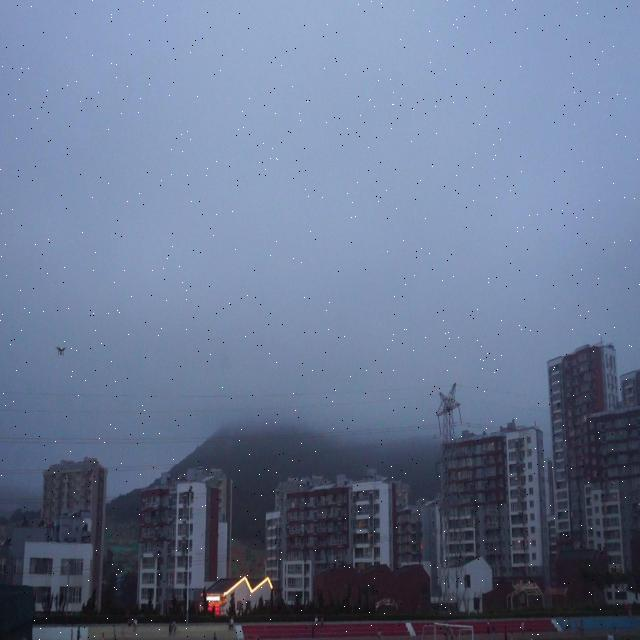UAV: (54, 346, 66, 356)
